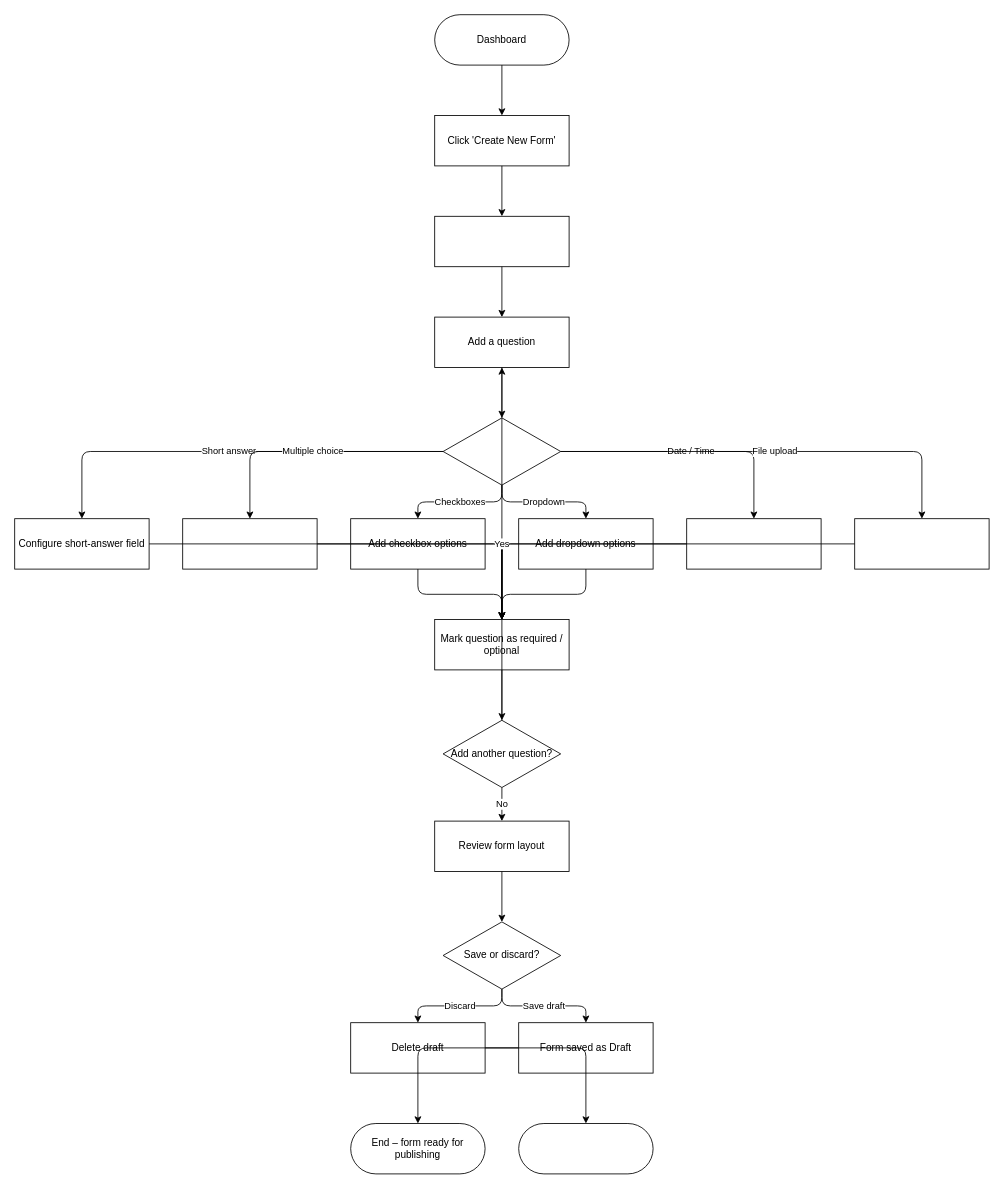
This 1004x1189 diagram has some shape labels left out. Each missing label, with the box of its shape:
Add answer options: (182, 518, 317, 569)
Choose question type: (442, 417, 561, 485)
Configure date-time field: (686, 518, 821, 569)
Configure file-upload field: (854, 518, 989, 569)
End – no form saved: (518, 1123, 653, 1174)
Enter form title & description: (434, 215, 569, 267)
